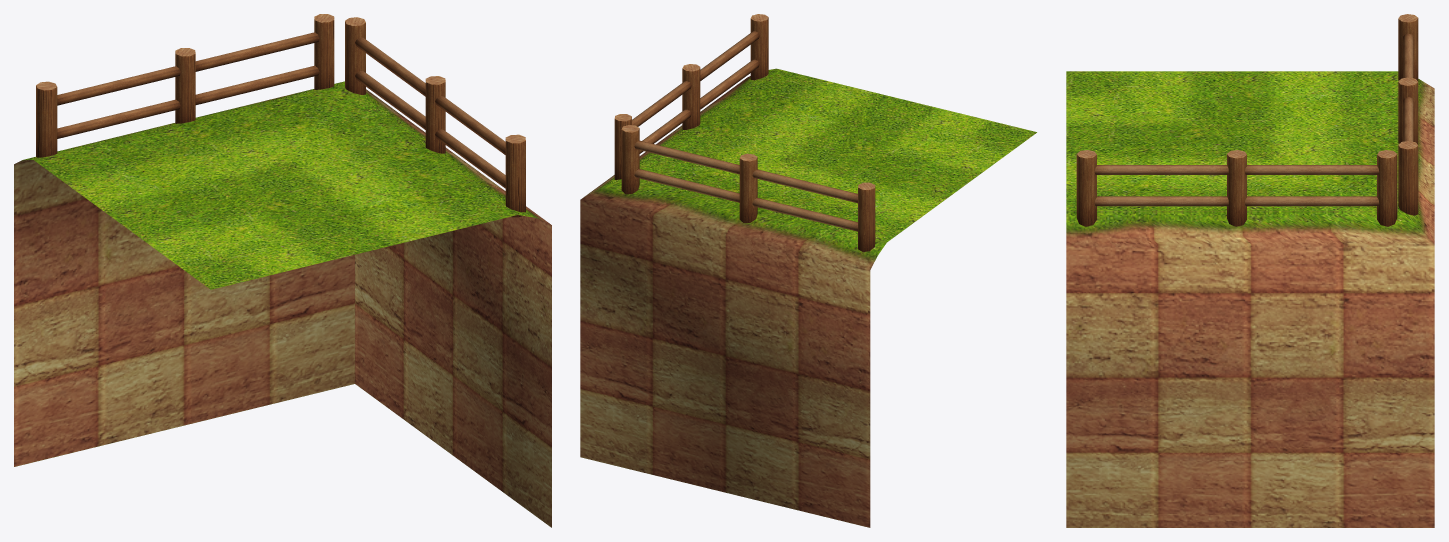
The model's file is Ground07.FBX.
The picture shows the model from 3 angles, left to right: view 1: azimuth 30°, elevation 25°; view 2: azimuth 150°, elevation 25°; view 3: azimuth 270°, elevation 25°; orthographic projection. The views are drawn at different scales.
Visible parts, largest first — view 1: Ground, Fence (×2); view 2: Ground, Fence (×2); view 3: Ground, Fence (×2).
Part boxes in pixels (x1,y1,x2,y2): Ground: (14, 81, 551, 527); Fence (×2): (36, 14, 525, 217); Ground: (580, 68, 1036, 527); Fence (×2): (614, 14, 875, 251); Ground: (1066, 71, 1434, 527); Fence (×2): (1076, 14, 1418, 226).
Size of the model in its own units: 4.23 by 4.59 by 4.23.
